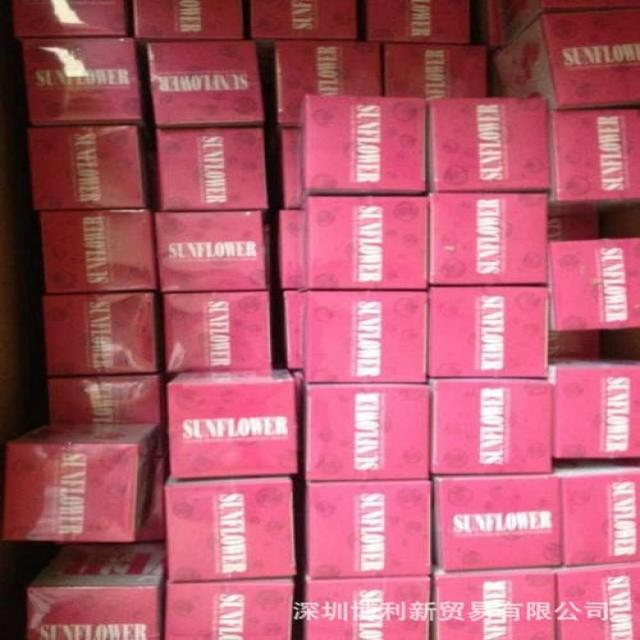box: (3, 420, 163, 542), (491, 7, 639, 109), (167, 367, 296, 479), (165, 475, 299, 581), (296, 98, 429, 204), (25, 541, 164, 639), (433, 471, 564, 570), (304, 478, 433, 577), (18, 35, 153, 127), (303, 385, 431, 481), (429, 189, 548, 285), (431, 379, 551, 474), (306, 196, 429, 288), (428, 288, 551, 377), (428, 100, 550, 189), (306, 292, 426, 382), (37, 208, 157, 294), (545, 107, 639, 216), (149, 40, 263, 129), (27, 123, 143, 208), (275, 41, 385, 126), (44, 293, 157, 374), (552, 456, 639, 561), (157, 126, 268, 208), (154, 210, 268, 289), (434, 566, 557, 638), (552, 359, 639, 457), (163, 575, 295, 639), (161, 292, 269, 370), (548, 237, 639, 328), (306, 577, 434, 639), (555, 562, 639, 638), (494, 0, 639, 43), (382, 41, 489, 94), (46, 374, 162, 422), (366, 1, 473, 41), (132, 0, 243, 38), (11, 0, 128, 36), (249, 3, 356, 39), (136, 451, 167, 543), (280, 123, 306, 206), (280, 210, 305, 289), (548, 329, 605, 359), (285, 290, 305, 370), (545, 215, 599, 242), (484, 0, 504, 47)
